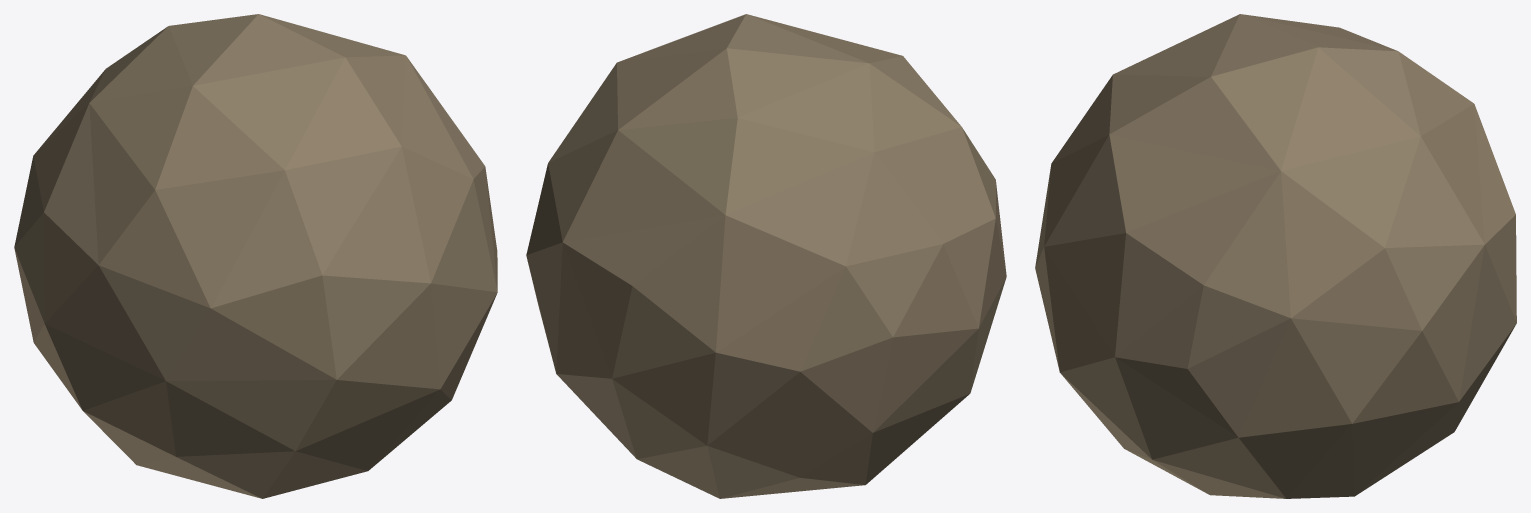
File: Kepler-186f.fbx
3 renders of one model, left to right at view 1: azimuth 30°, elevation 25°; view 2: azimuth 150°, elevation 25°; view 3: azimuth 270°, elevation 25°, orthographic.
Visible parts, largest first — view 1: Kepler-186f; view 2: Kepler-186f; view 3: Kepler-186f.
Boxes of the visible parts, box(x1,y1,x2,y2) form: Kepler-186f: box(14, 14, 497, 498); Kepler-186f: box(526, 14, 1006, 498); Kepler-186f: box(1035, 14, 1516, 498).
Bounding box in the file's own units: 219 × 220 × 215.
